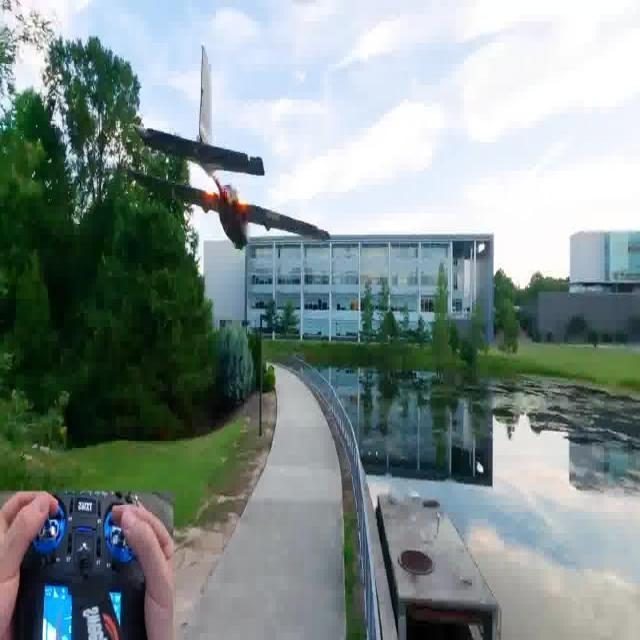iha: (113, 41, 335, 261)
